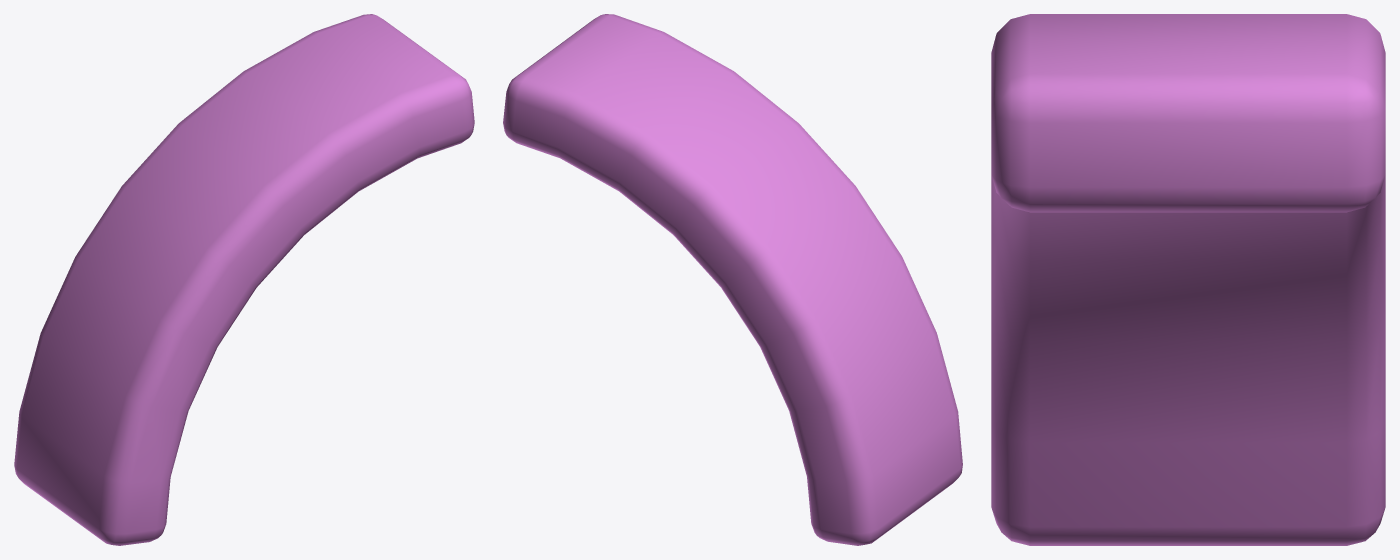
The model's file is WayPathPedes.fbx.
3 renders of one model, left to right at view 1: azimuth 30°, elevation 25°; view 2: azimuth 150°, elevation 25°; view 3: azimuth 270°, elevation 25°, orthographic. The views are drawn at different scales.
Visible parts, largest first — view 1: Circle.019; view 2: Circle.019; view 3: Circle.019.
Boxes of the visible parts, x1,y1,x2,y2 form: Circle.019: [14, 14, 474, 545]; Circle.019: [503, 14, 962, 545]; Circle.019: [991, 14, 1385, 545].
Size of the model in its own units: 4.98 by 4.98 by 2.36.
